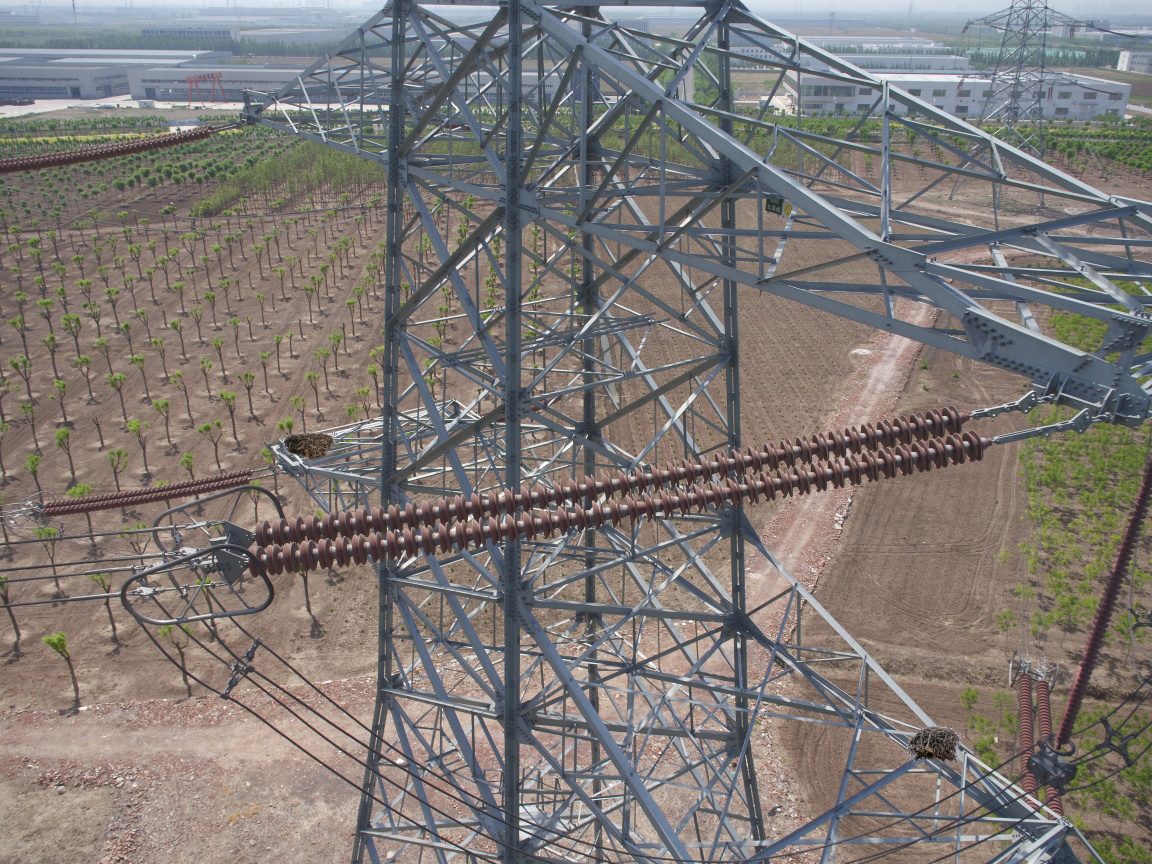nest: (907, 725, 962, 760), (281, 431, 332, 457)
